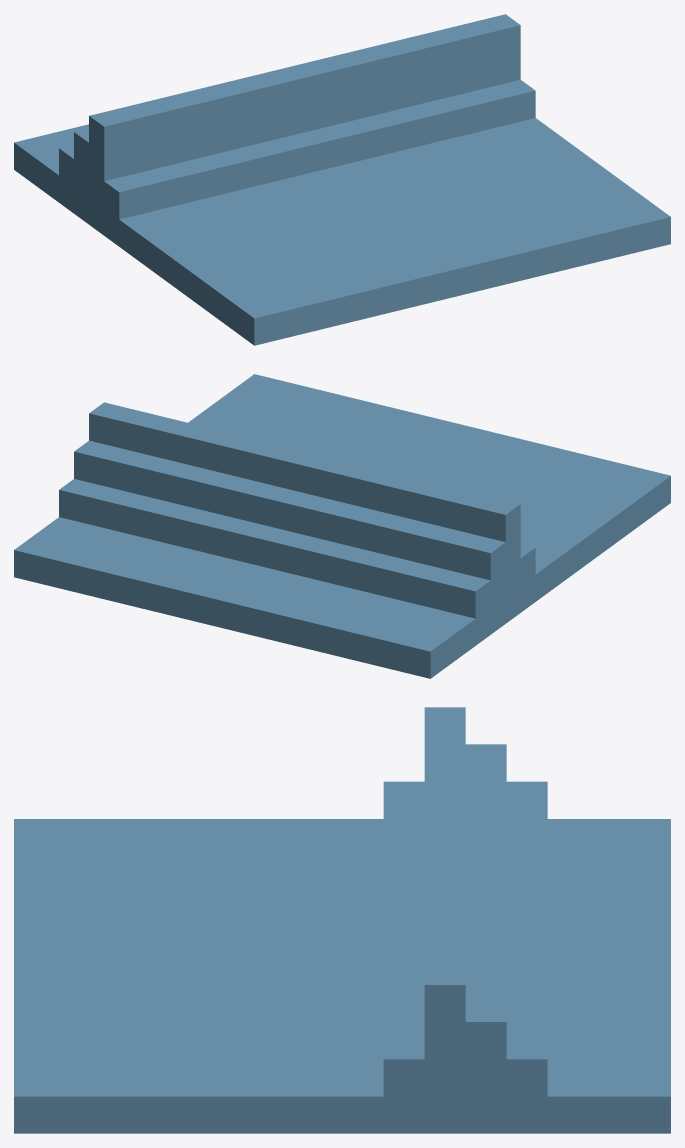
File: water-02.obj
3 views of the same model, one above another, from view 1: azimuth 30°, elevation 25°; view 2: azimuth 150°, elevation 25°; view 3: azimuth 270°, elevation 25° (orthographic). The views are drawn at different scales.
Bounding box in the file's own units: 16 × 4 × 16.
1 material, 1 textured.
